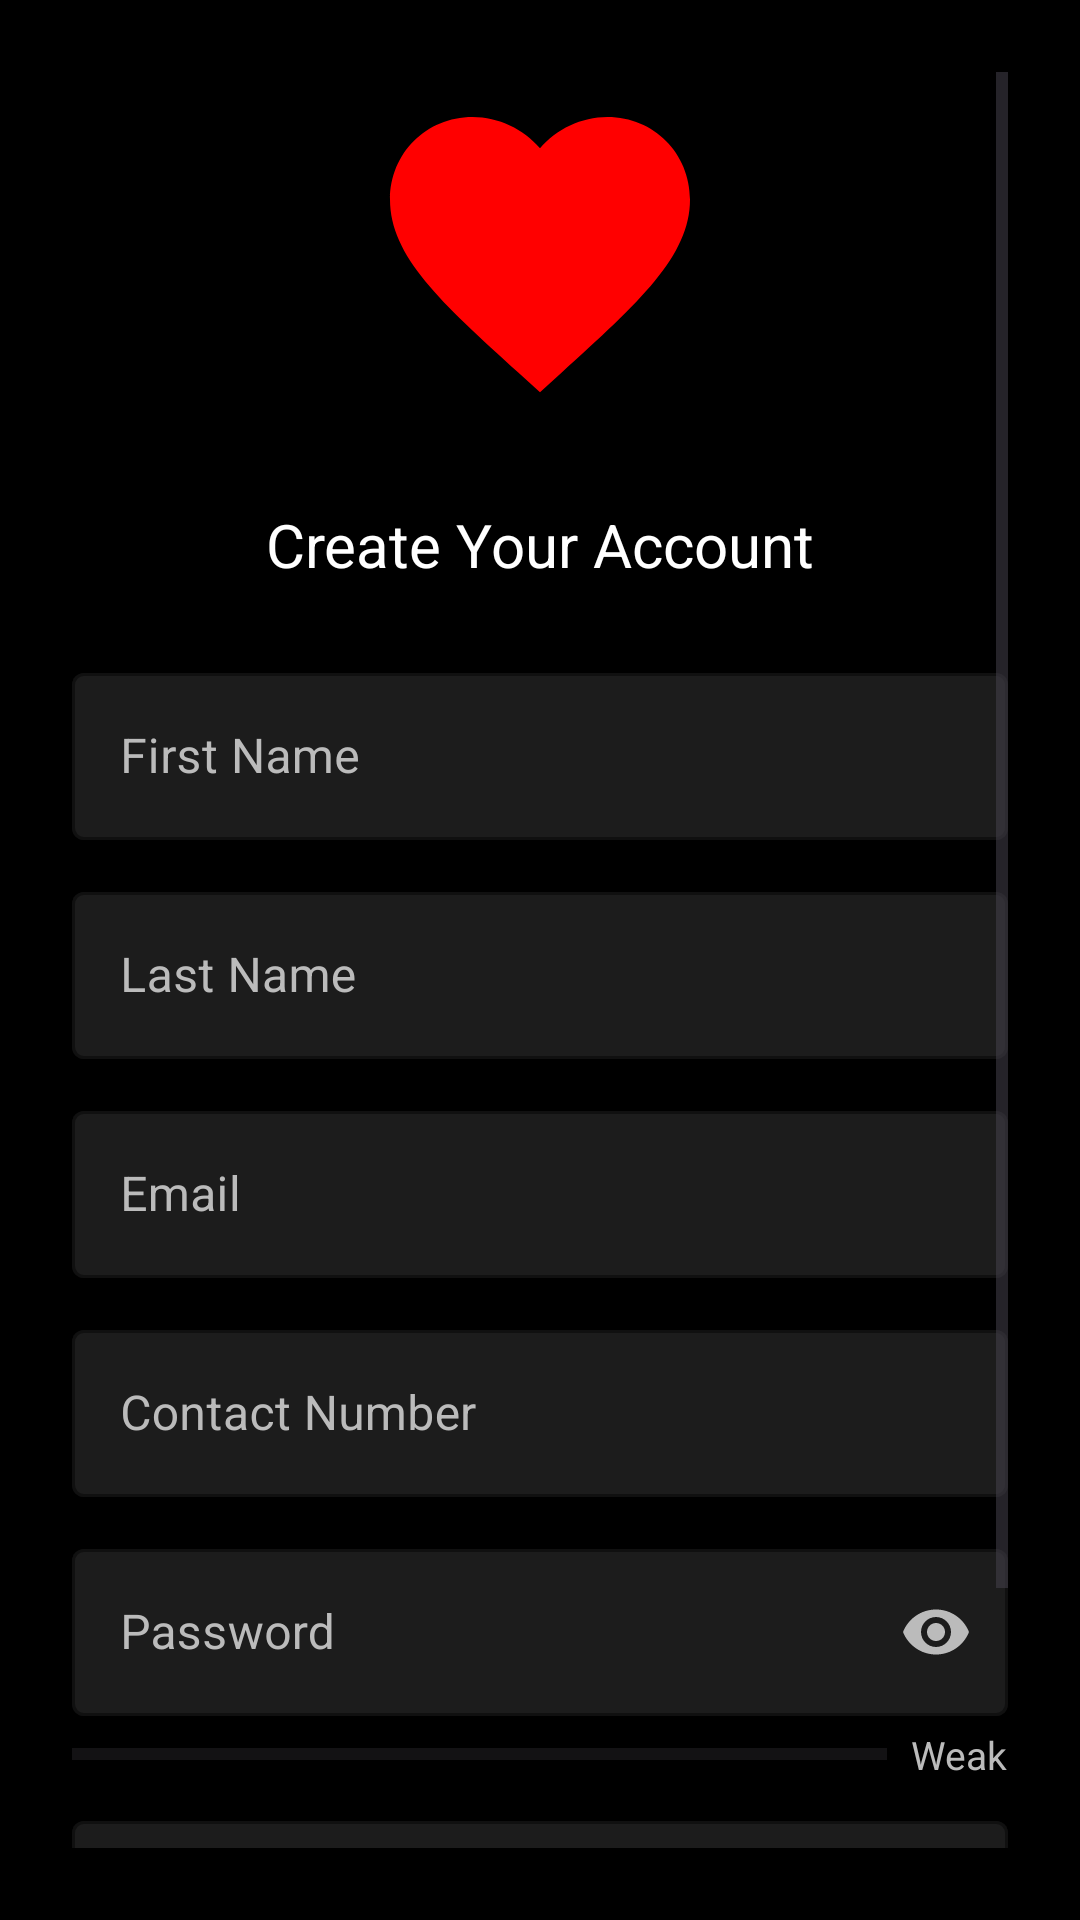

Screen size 1080 x 1920. Icon name, then its box in pixels as (x1, y1, x2, y2):
heart: (390, 117, 690, 392)
